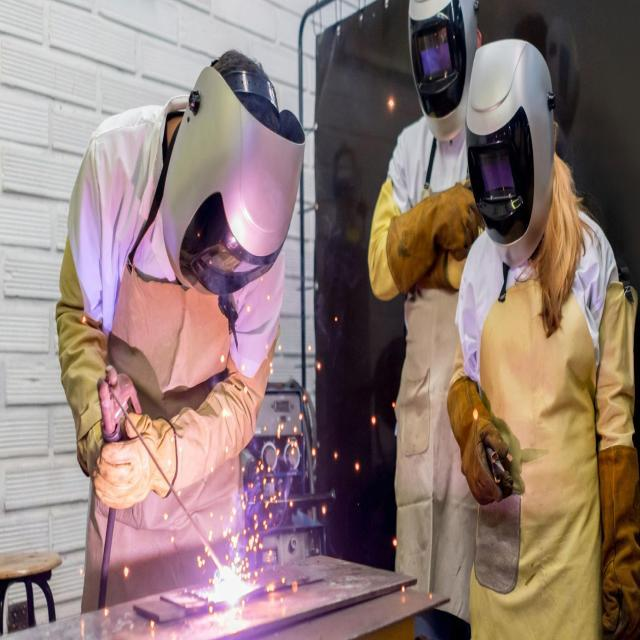with_helmet: (157, 59, 304, 296), (466, 39, 554, 246), (409, 0, 477, 140)
